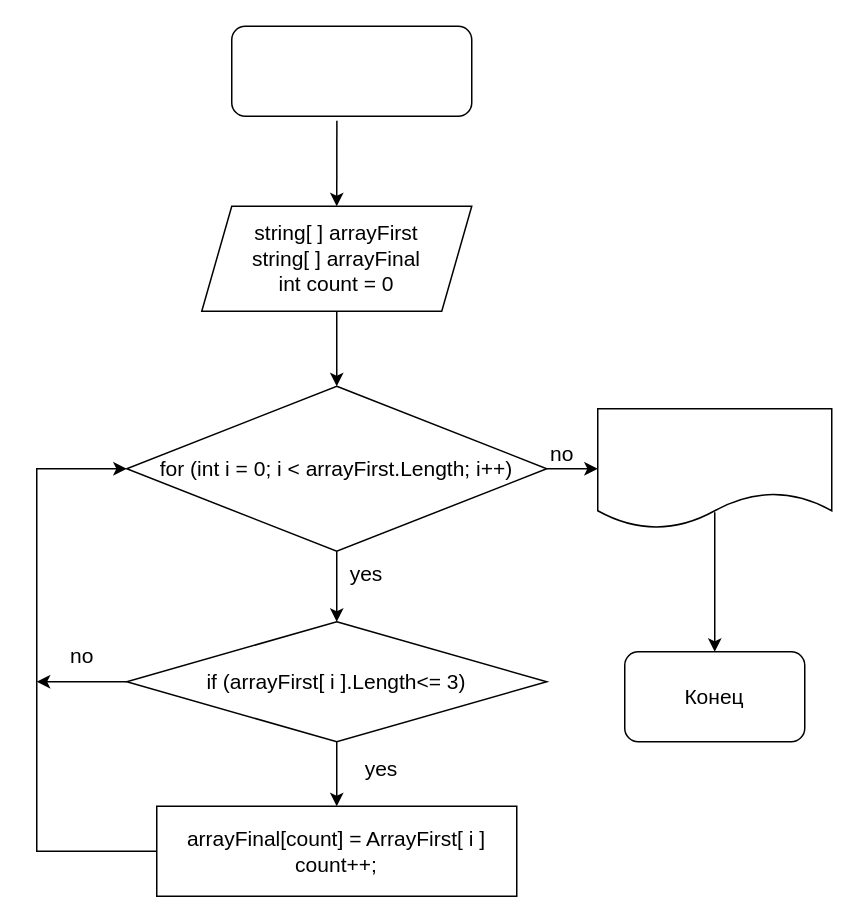
Image size: 858x923. Some labels were removed from this diagram. Here are the shapes that lost their labels. From the top down, the box of each, then its label:
(230, 25, 472, 116): Начало
(596, 407, 832, 529): PrintArray(arrayFinal)
